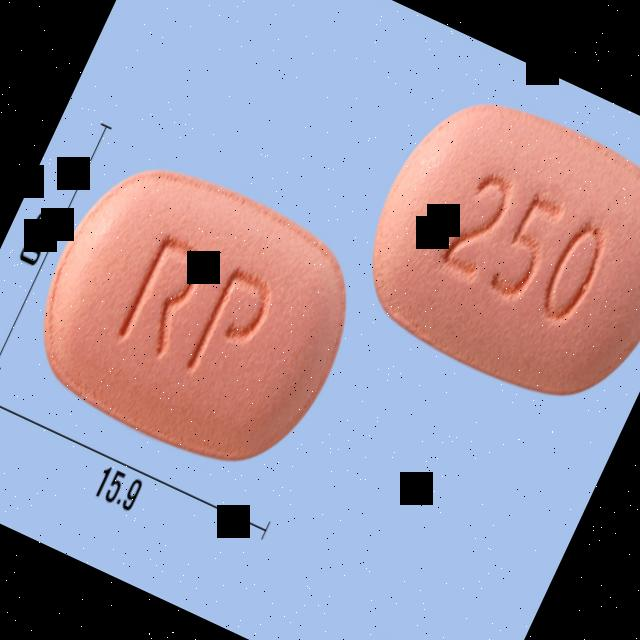Rp Levofloxacin Tab: (5, 136, 382, 497), (335, 72, 640, 428)
